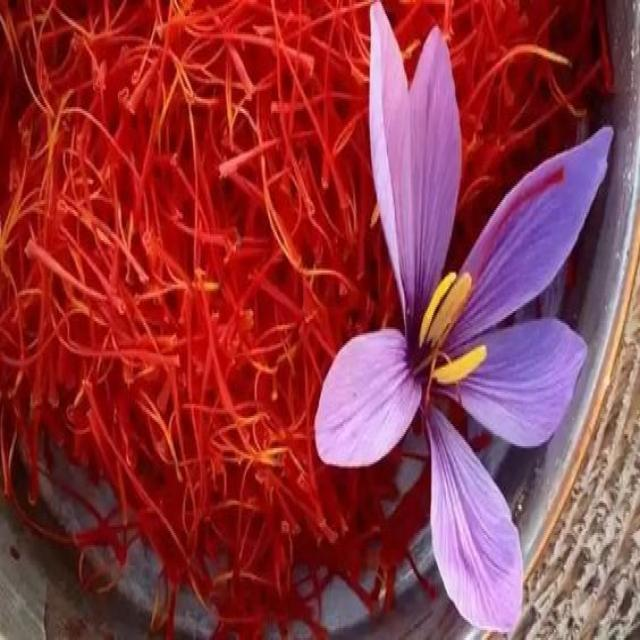Flower: (315, 4, 613, 630)
stigma: (473, 164, 565, 272)
